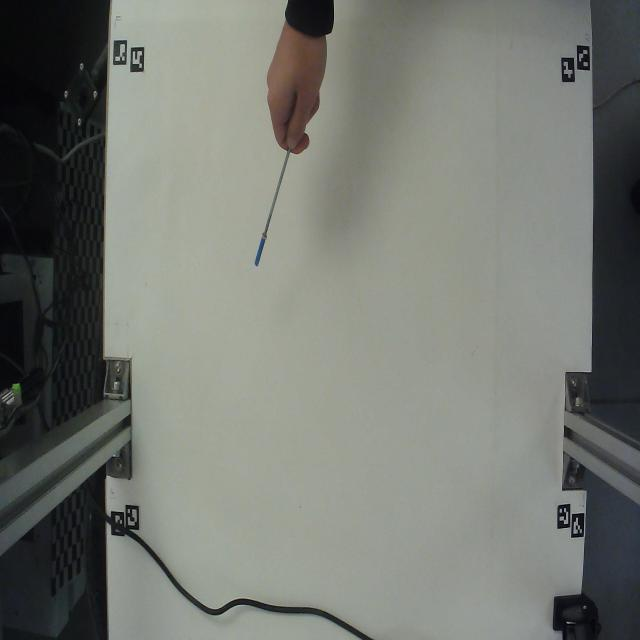NoPres: (231, 141, 304, 309)
